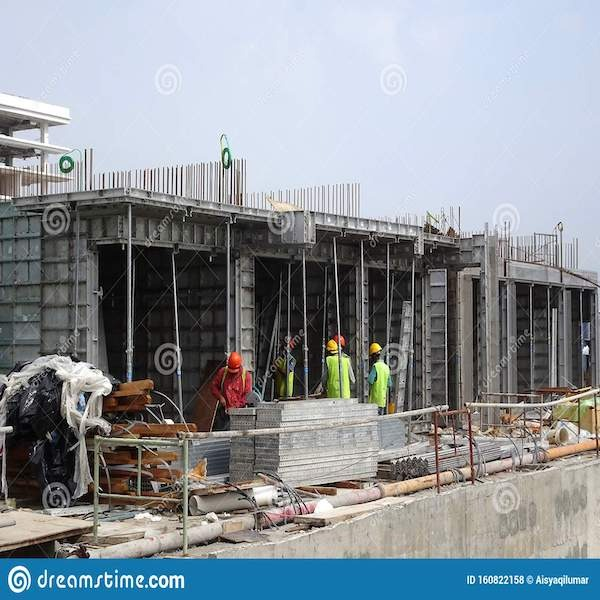helmet: (224, 351, 245, 376), (327, 337, 345, 357), (366, 343, 386, 355)
